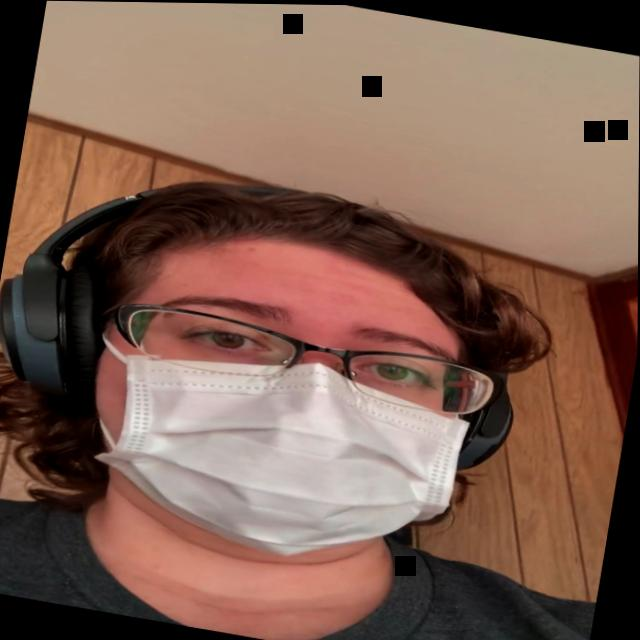Mask: (55, 207, 497, 583)
